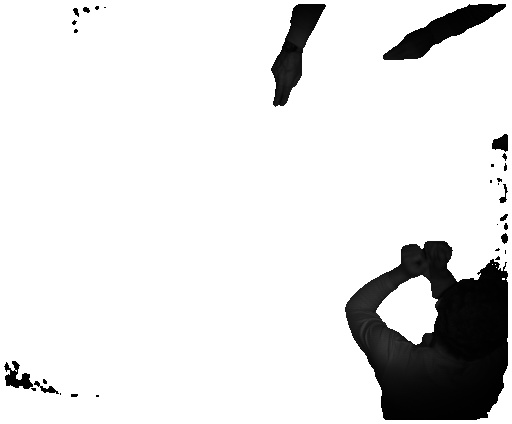fist: (419, 240, 457, 274), (394, 243, 428, 277)
hand: (264, 53, 303, 111), (376, 29, 437, 63)
